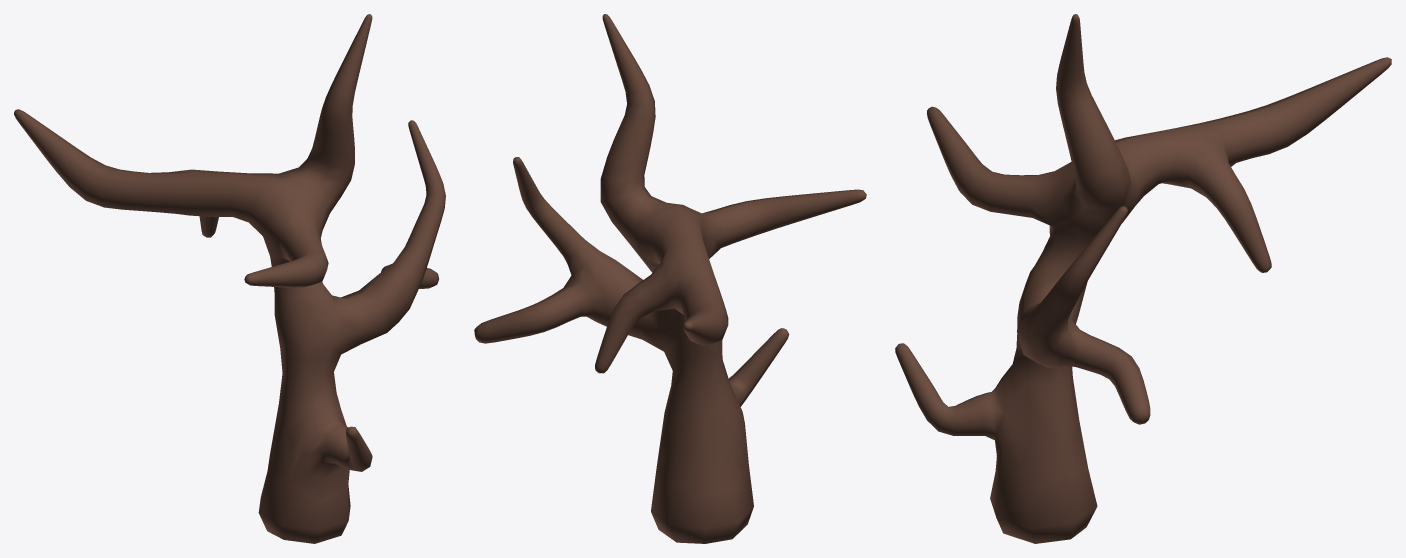
The model's file is arvore_seca_2.fbx.
3 renders of one model, left to right at view 1: azimuth 30°, elevation 25°; view 2: azimuth 150°, elevation 25°; view 3: azimuth 270°, elevation 25°, orthographic. The views are drawn at different scales.
Visible parts, largest first — view 1: arvore_seca_2; view 2: arvore_seca_2; view 3: arvore_seca_2.
Boxes of the visible parts, x1,y1,x2,y2 form: arvore_seca_2: (14,14,445,543); arvore_seca_2: (474,14,866,543); arvore_seca_2: (895,14,1391,543).
Bounding box in the file's own units: 1053 × 1572 × 1261.
